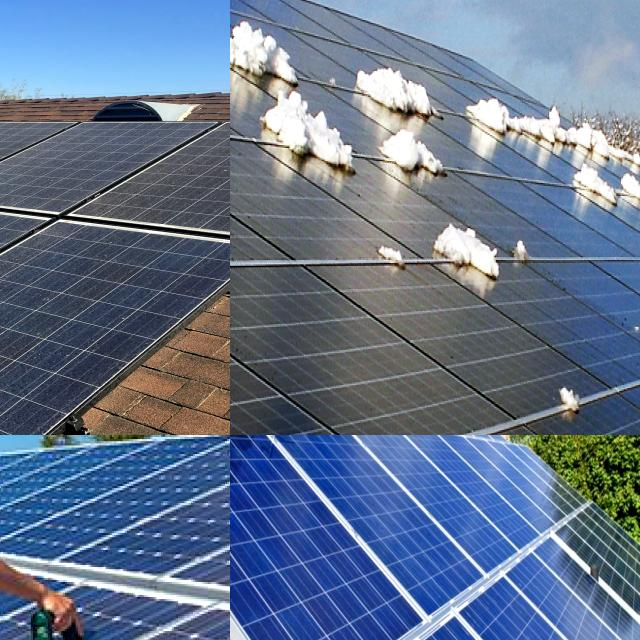crack: (244, 435, 510, 640), (0, 435, 230, 640), (327, 435, 568, 611), (230, 435, 436, 640), (413, 539, 640, 640)
dust: (36, 226, 188, 314), (0, 325, 90, 417), (0, 246, 104, 323), (0, 185, 55, 243), (0, 358, 31, 401)
panel: (262, 92, 358, 188), (346, 45, 452, 124), (449, 84, 539, 156), (230, 0, 301, 88), (431, 202, 500, 292), (530, 96, 634, 154), (370, 132, 460, 187), (230, 84, 288, 155), (577, 165, 640, 216), (509, 196, 546, 278), (548, 377, 599, 435), (230, 0, 279, 60), (366, 226, 415, 276)
